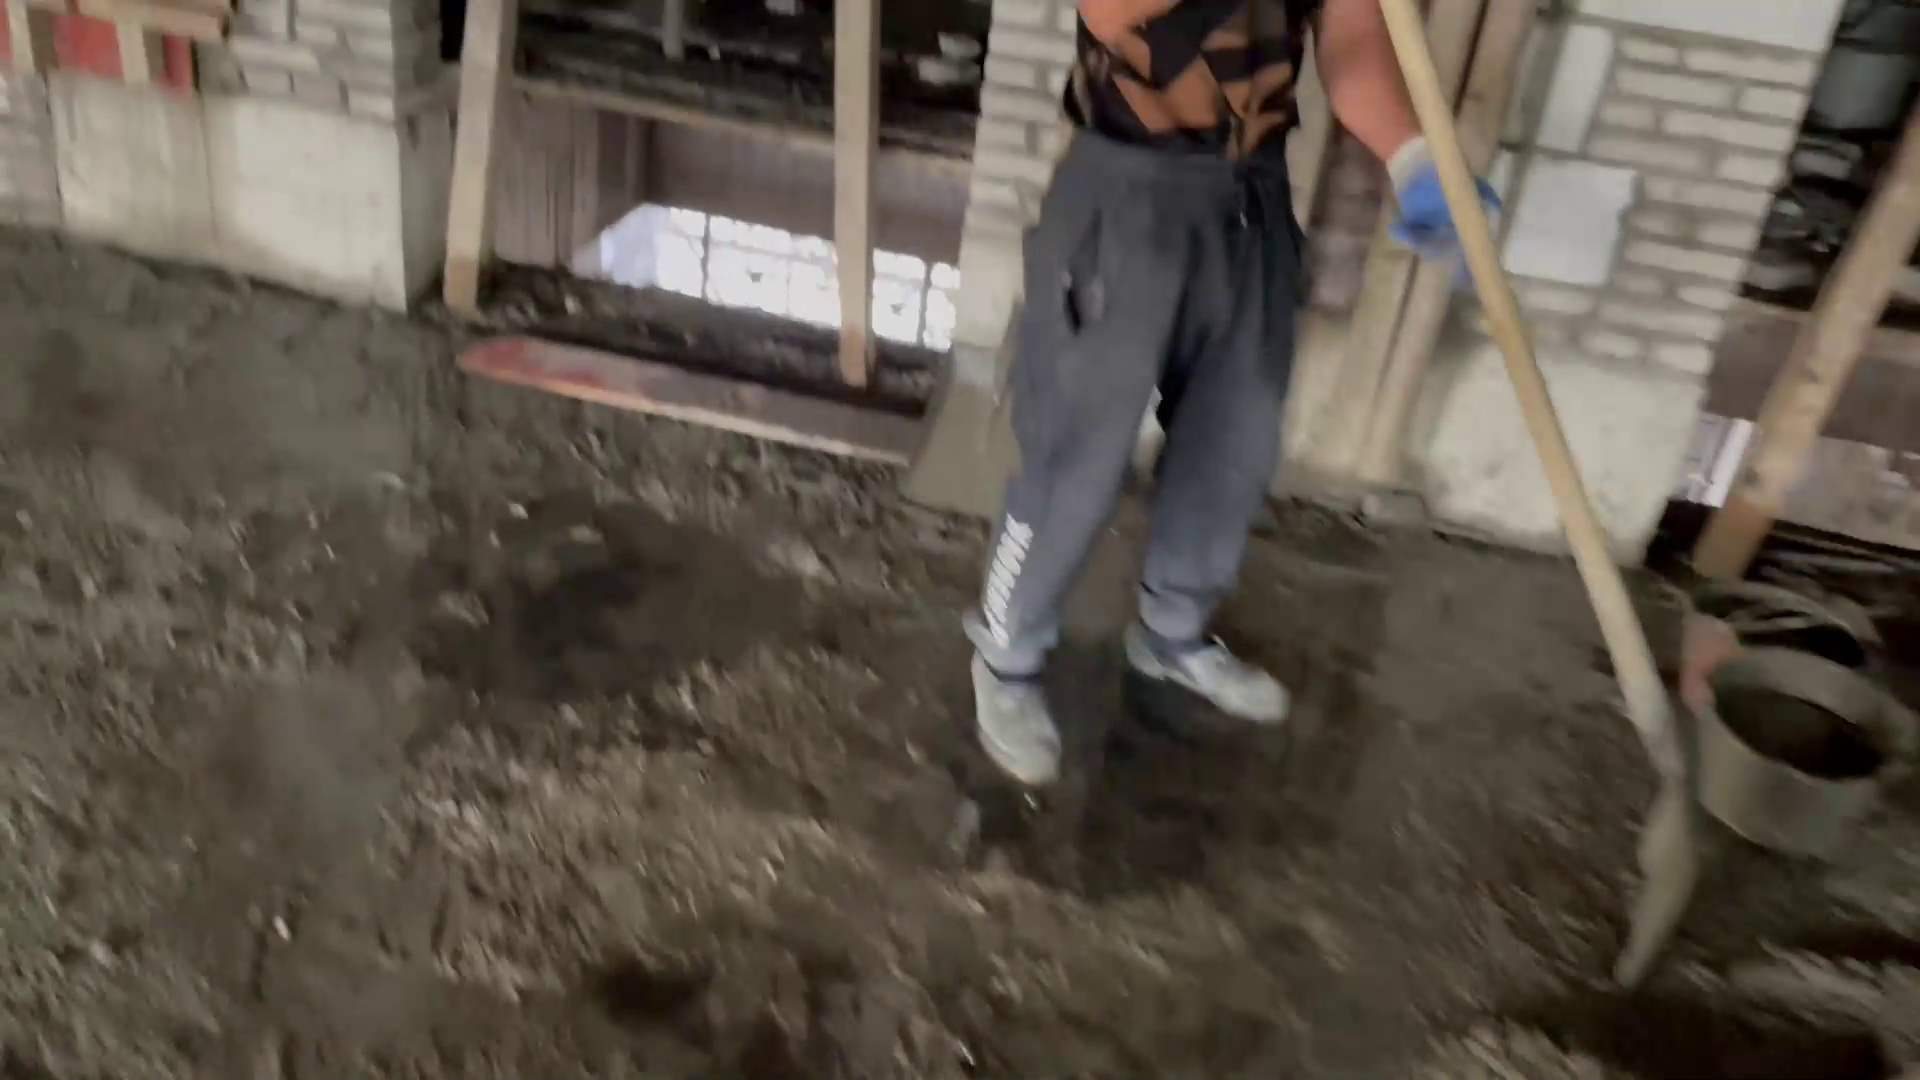person: (986, 1, 1487, 825)
